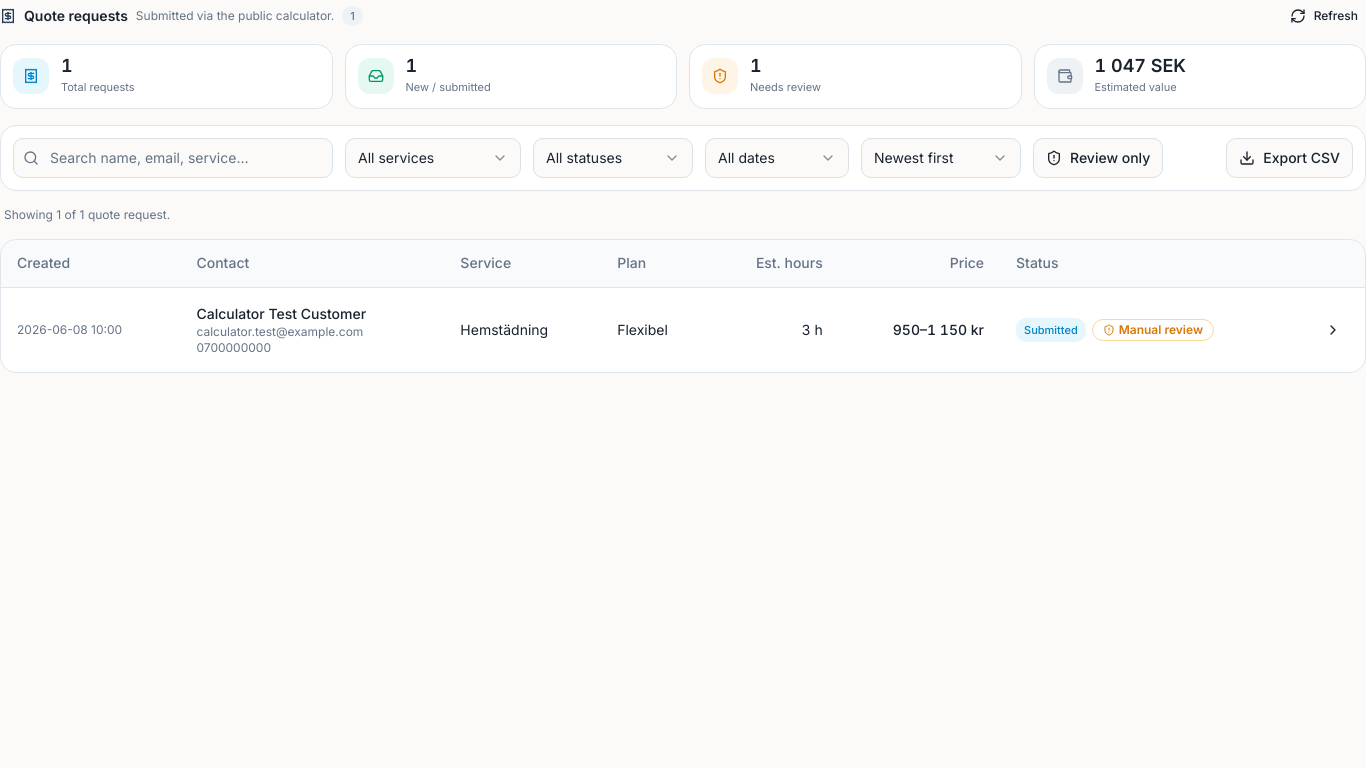
Test: QuoteRequestsInbox › opens a detail dialog with submitted answers and a snapshot summary
Step 1. Click the button named "View details for Calculator Test Customer" → (1333,330), box [1317,314,1349,346]
(page scrolled)
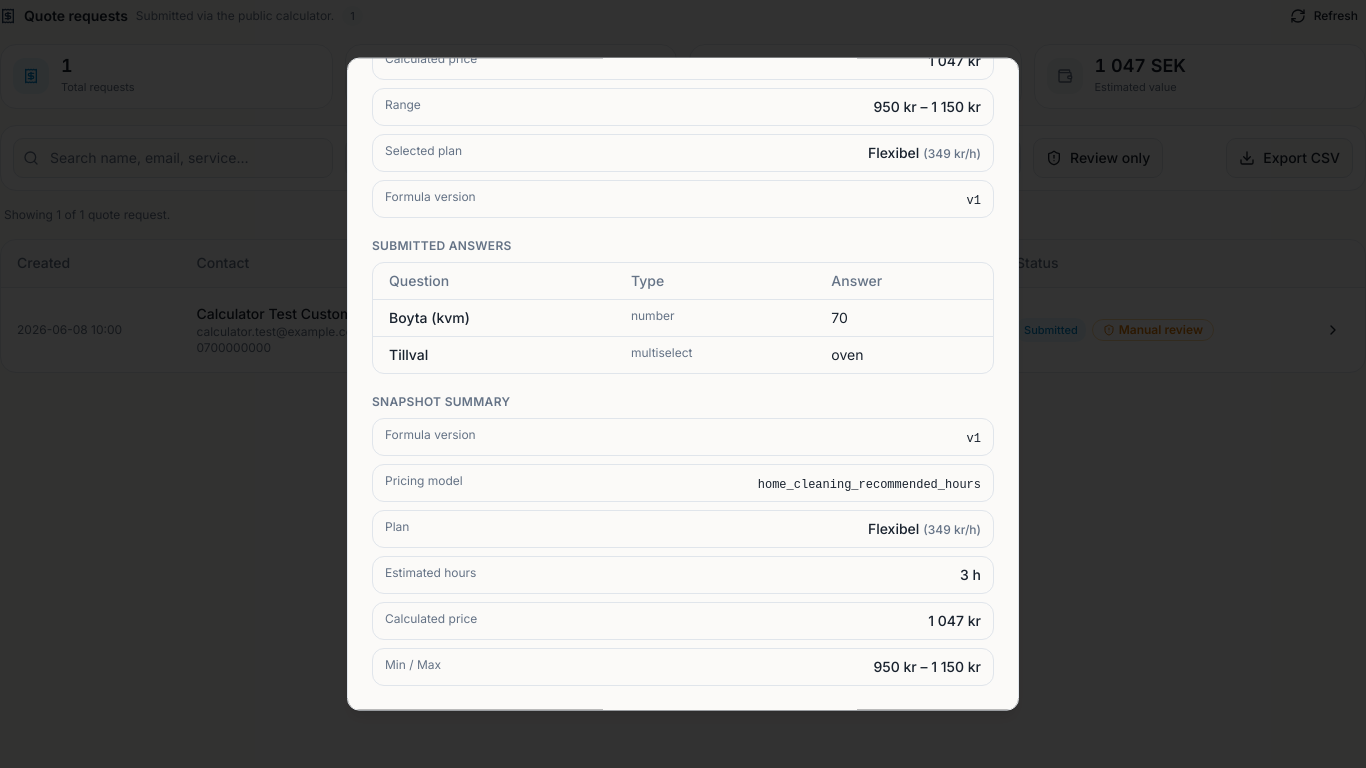
Result: the text "Boyta (kvm)" is shown at [373,299,615,336]
Result: the text "70" is shown at [815,299,993,336]
Result: the text "Tillval" is shown at [373,336,615,372]
